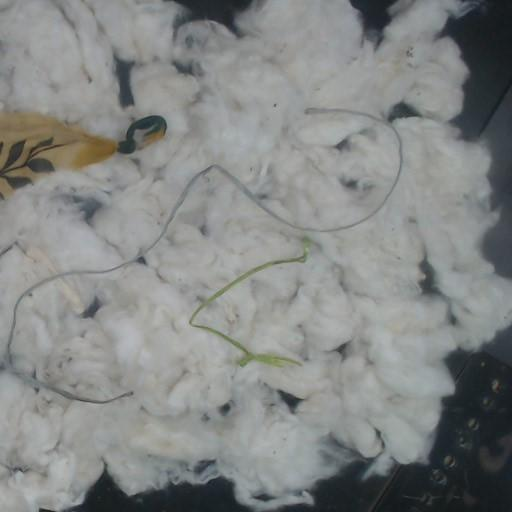cloth: (0, 112, 166, 199)
cotton: (0, 0, 511, 511)
thread: (0, 109, 401, 403), (190, 236, 310, 366)
